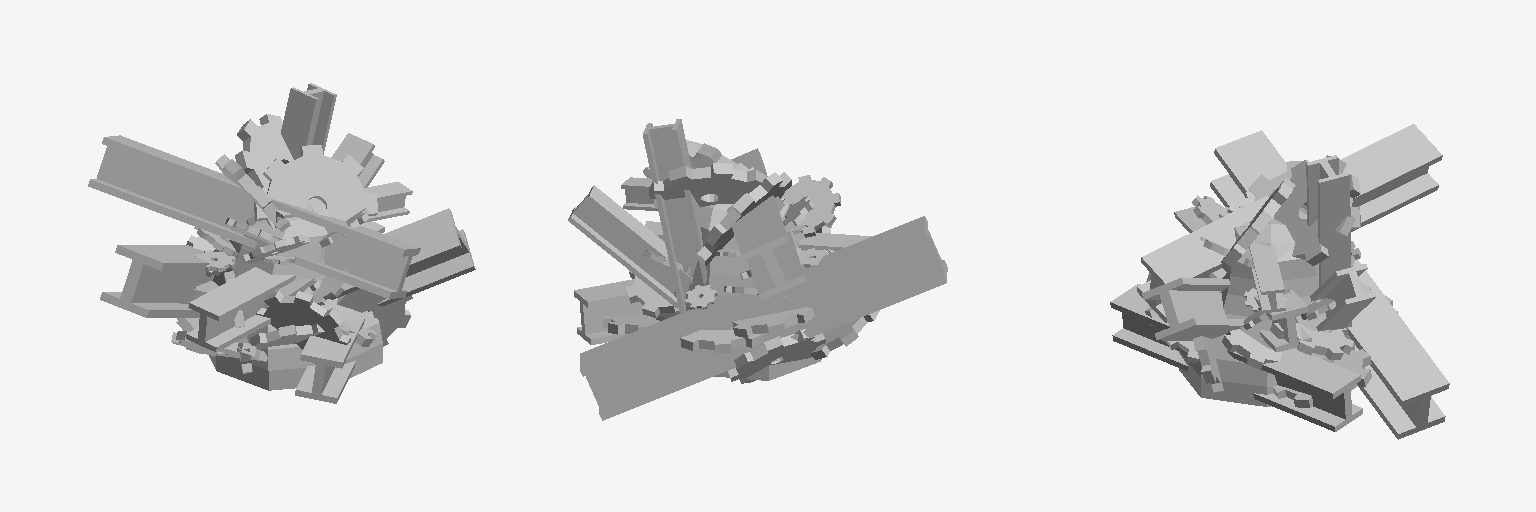
File: TrashLiteralTrash.obj
3 views of the same model, side by side, from view 1: azimuth 30°, elevation 25°; view 2: azimuth 150°, elevation 25°; view 3: azimuth 270°, elevation 25° (orthographic).
Parts seen in each view (by area): view 1: group4_pCylinder11; view 2: group4_pCylinder11; view 3: group4_pCylinder11.
Boxes of the visible parts, box(x1,y1,x2,y2) form: group4_pCylinder11: box(88, 83, 475, 403); group4_pCylinder11: box(568, 119, 947, 420); group4_pCylinder11: box(1110, 124, 1449, 439).
Size of the model in its own units: 2647 by 1987 by 2318.